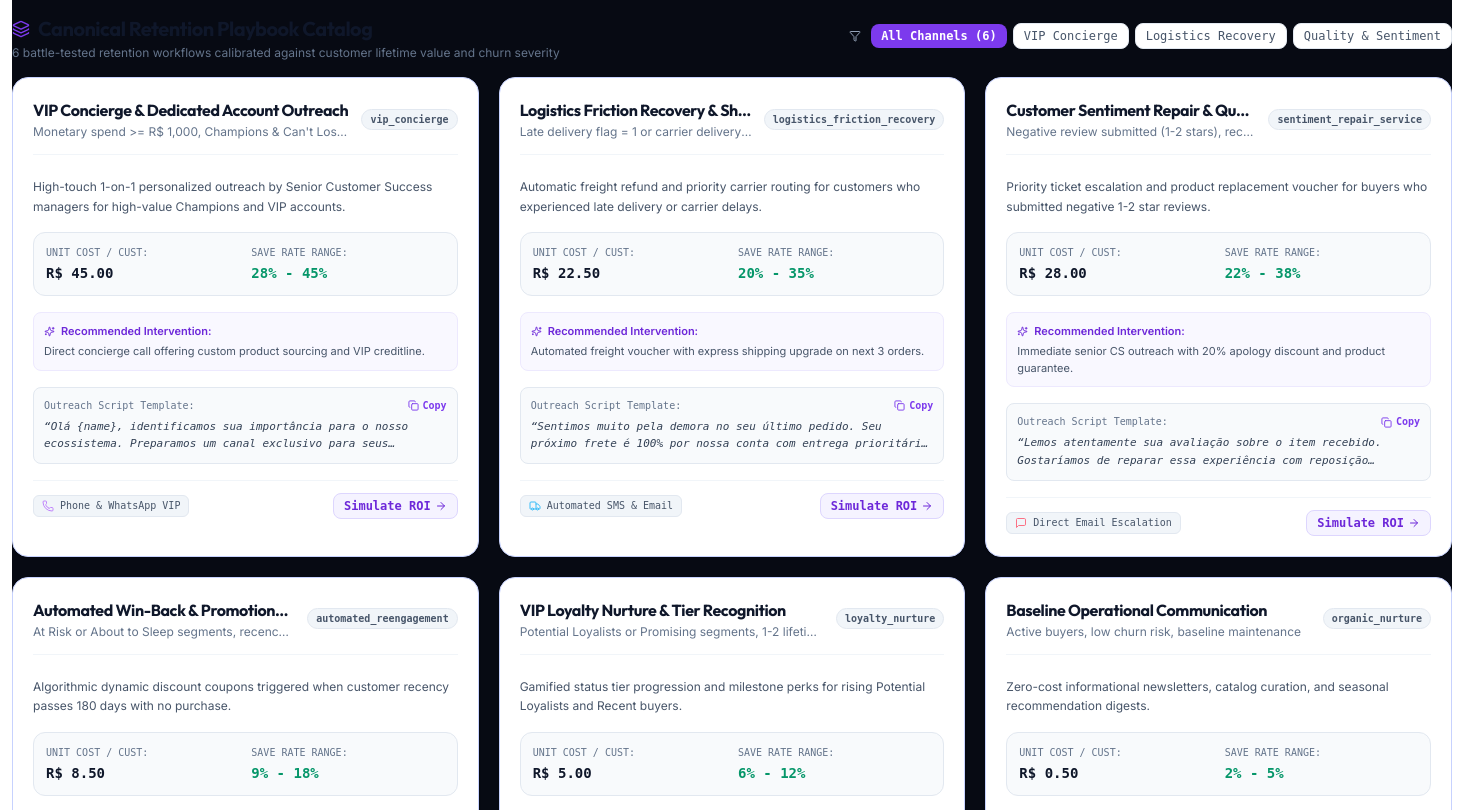
RetentionPlannerView Component › copies script template when clicking Copy button on a playbook card
(page scrolled)
Click the 1st button "Copy" at (427, 406), box [408,398,447,414]
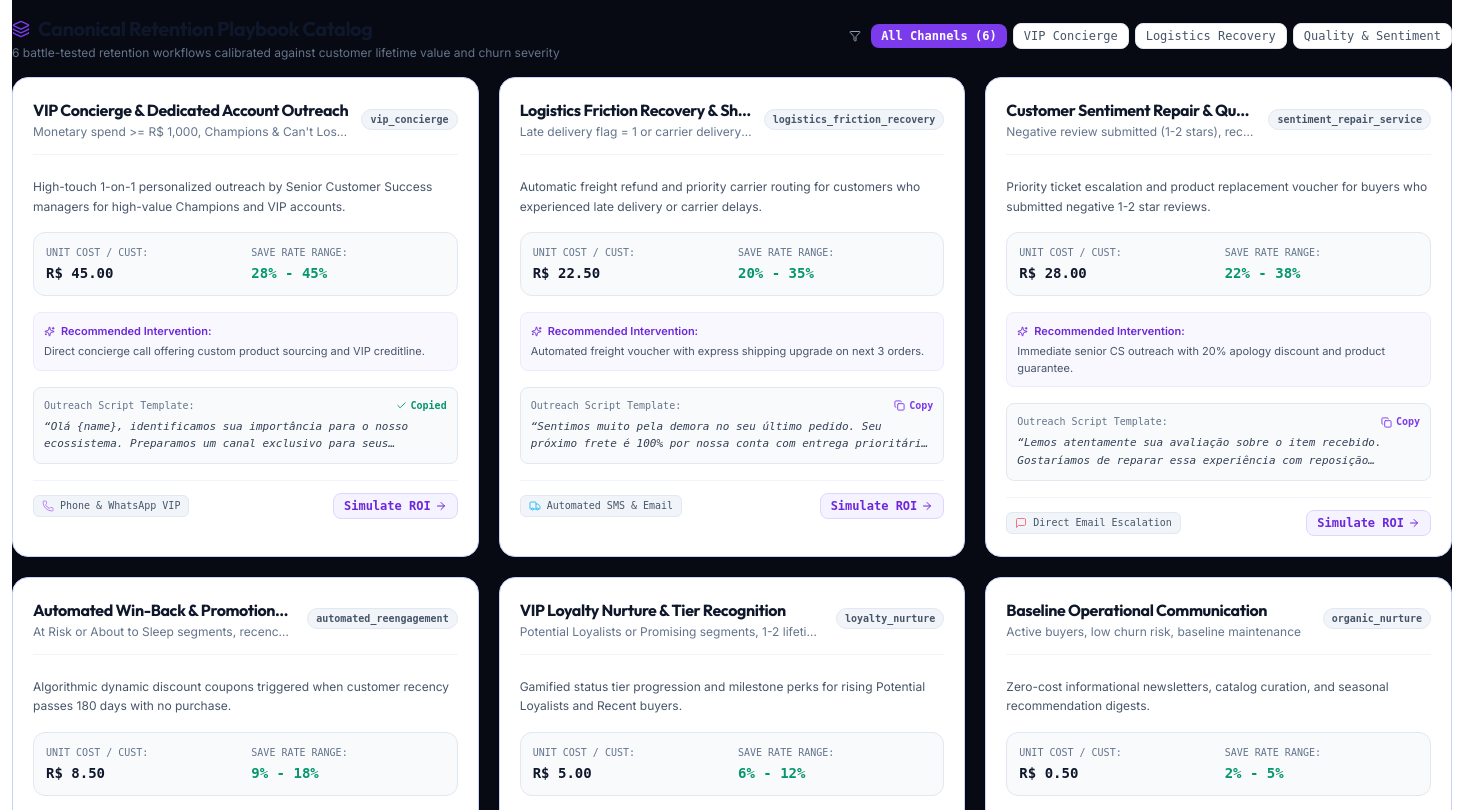
Expected: the text "Copied" is shown, [410,398,447,414]
